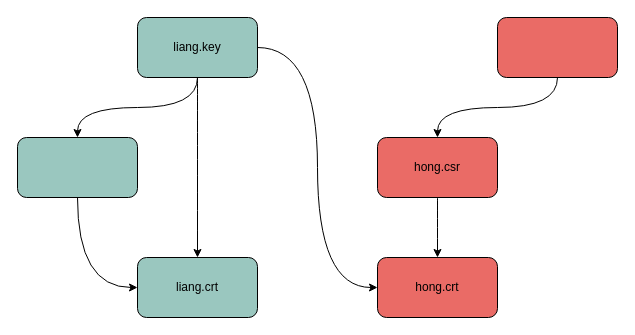
The diagram is 635 pixels wide and 335 high, and some of its shapes have lost their labels. The centre of each missing label's shape, as x and y in pixels:
"hong.key" belongs at (x=557, y=47).
"liang.csr" belongs at (x=77, y=167).
